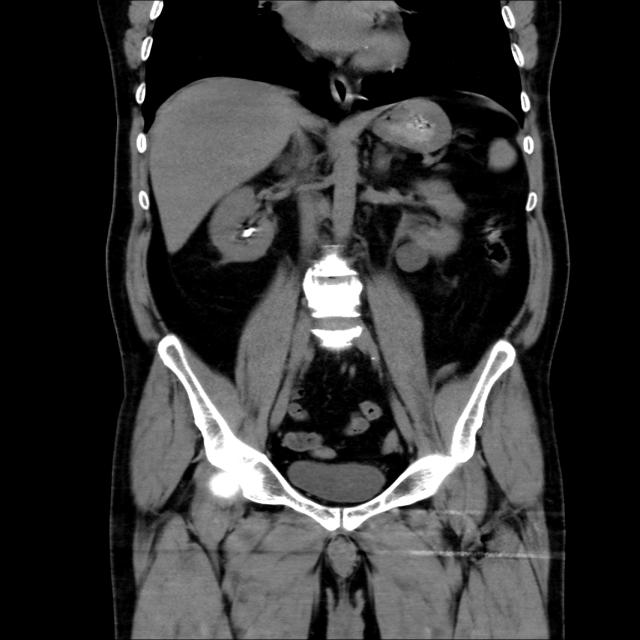kidneystone: (241, 228, 256, 238)
